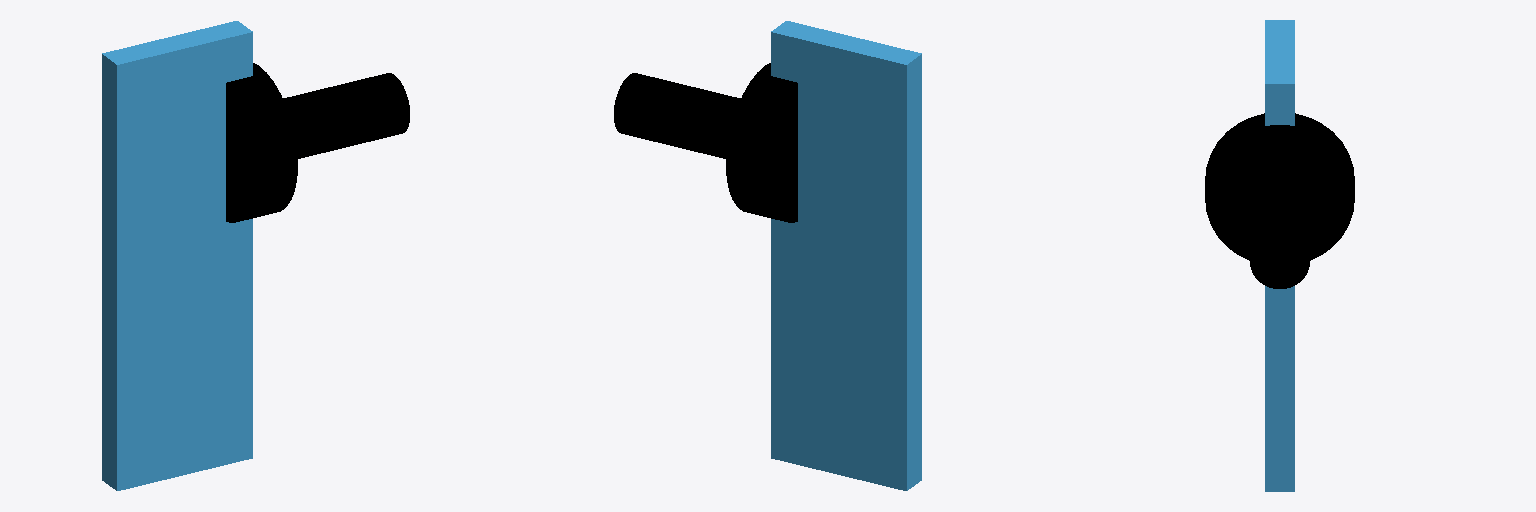
robot.urdf — barco_auv:
<?xml version="1.0" ?>
<!-- =================================================================================== -->
<!-- |    This document was autogenerated by xacro from barcoLeme.xacro                | -->
<!-- |    EDITING THIS FILE BY HAND IS NOT RECOMMENDED                                 | -->
<!-- =================================================================================== -->
<robot name="barco_auv" xmlns:xacro="http://www.ros.org/wiki/xacro">
  <link name="base_link">
    <visual>
      <origin rpy="1.57079632679 0 1.57079632679"/>
      <geometry>
        <mesh filename="file://[local-path]/.uwsim/data/robot/barco/pt90.stl"/>
      </geometry>
      <material name="blue"/>
    </visual>
    <inertial>
        <origin rpy="0 0 0" xyz="0 0 -0.05"/>
      <mass value="10"/>
      <inertia ixx="0.1" ixy="0.0" ixz="0.0" iyy="1.4" iyz="0.0" izz="1.4"/>
    </inertial>
    <buoyancy>
      <compensation>1.2</compensation>
      <origin xyz="-0.0005 0 0.05"/>
      <limit radius="0.1"/>
      <damping rpy="20 50 50" xyz="20 50 50"/>
    </buoyancy>
  </link>
  <link name="rudder">
    <inertial>
      <origin rpy="0 0 0" xyz="-0.1 0 0"/>
      <mass value="0.05"/>
      <inertia ixx="0.1" ixy="0.0" ixz="0.0" iyy="0.01" iyz="0.0" izz="0.05"/>
    </inertial>
    <collision name="collision">
      <geometry>
        <box size="0.1 0.02 0.3"/>
      </geometry>
      <origin rpy="0 0 0" xyz="-0.1 0 0"/>
    </collision>
    <visual name="visual">
      <geometry>
        <box size="0.1 0.02 0.3"/>
      </geometry>
      <origin rpy="0 0 0" xyz="-0.1 0 0"/>
    </visual>
  </link>
  <joint name="rudder_joint" type="revolute">
    <parent link="base_link"/>
    <child link="rudder"/>
    <origin rpy="0 0 0" xyz="-0.53 0 -0.1"/>
    <dynamics damping="1.0"/>
    <axis xyz="0 0 1"/>
    <limit effort="50" lower="-1.0471975512" upper="1.0471975512" velocity="5"/>
  </joint>
  <!-- Plugin list -->
  <gazebo>
    <!-- Gazebo plugin listens to the body-->
    <plugin filename="libLiftDragPlugin.so" name="LiftDrag">
      <!--<plugin name="LiftDrag" filename="libliftdragww.so">-->
      <a0>0</a0>
      <cla>4.752798721</cla>
      <cda>0.6417112299</cda>
      <cma>-1.8</cma>
      <alpha_stall>0.785</alpha_stall>
      <cla_stall>-3.85</cla_stall>
      <cda_stall>-0.9233984055</cda_stall>
      <cma_stall>0</cma_stall>
      <cp>-0.5 0 0</cp>
      <area>0.03</area>
      <air_density>1000</air_density>
      <forward>1 0 0</forward>
      <upward>0 1 0</upward>
      <link_name>rudder</link_name>
    </plugin>
    <plugin filename="libfreefloating_gazebo_control.so" name="freefloating_gazebo_control">
      <switchService>switch</switchService>
      <updateRate>100</updateRate>
      <link>base_link</link>
      <!--    these two thrusters are actually orientable, so the map should not be hard-coded 
                        the thruster name is the name of the corresponding link -->
      <thruster>
        <effort>30</effort>
        <name>fwd</name>
      </thruster>
      <!-- these thrusters are fixed and the map can be hard-coded 
                     they will be given a name (thr2 to thr4)  -->
    </plugin>
  </gazebo>
  <joint name="fwd_link" type="revolute">
    <parent link="base_link"/>
    <child link="fwd"/>
    <origin rpy="0 -1.57079632679 0" xyz="-0.52 0 -0.03"/>
    <dynamics damping="10.0"/>
    <axis xyz="0 1 0"/>
    <limit effort="30" lower="-1.57079632679" upper="1.57079632679" velocity="5.0"/>
  </joint>
  <link name="fwd">
    <buoyancy>
      <compensation>1.0</compensation>
    </buoyancy>
    <visual name="fwd_1">
      <geometry>
        <cylinder length="0.1" radius="0.02"/>
      </geometry>
      <material name="black">
        <color rgba="0 0 0 1"/>
      </material>
    </visual>
    <visual name="fwd_2">
      <origin xyz="0 0 0.065"/>
      <geometry>
        <cylinder length="0.03" radius="0.05"/>
      </geometry>
      <material name="black">
        <color rgba="0 0 0 1"/>
      </material>
    </visual>
    <inertial>
      <mass value="0.01"/>
      <inertia ixx="0.01" ixy="0.0" ixz="0.0" iyy="0.01" iyz="0.0" izz="0.01"/>
    </inertial>
  </link>
  <gazebo reference="fwd">
    <material>Gazebo/Black</material>
  </gazebo>
  <!-- Dummy links to display wrench in Rviz, autogenerated -->
  <!-- <xacro:thruster_dummy_link name="thr2" xyz="0.0 0.0 0.0" rpy="1.57079632679 -0.0 0.0"/>
    <xacro:thruster_dummy_link name="thr3" xyz="-0.45 0.0 0.0" rpy="0.0 -0.0 0.0"/>
    <xacro:thruster_dummy_link name="thr4" xyz="0.45 0.0 0.0" rpy="0.0 -0.0 0.0"/>-->
</robot>

--- Facts derived from the render (not from the file) ---
The picture shows the robot from 3 angles, left to right: view 1: azimuth 30°, elevation 25°; view 2: azimuth 150°, elevation 25°; view 3: azimuth 270°, elevation 25°; orthographic projection.
Robot: barco_auv — 3 links, 2 joints (2 revolute); root link base_link; default pose: every joint at zero.
Visible links, largest first — view 1: rudder, fwd; view 2: rudder, fwd; view 3: fwd, rudder.
Link boxes in pixels (x1,y1,x2,y2): rudder: (102, 21, 252, 490); fwd: (226, 63, 409, 222); rudder: (771, 21, 921, 490); fwd: (614, 63, 797, 222); fwd: (1205, 113, 1354, 288); rudder: (1265, 20, 1294, 491).
Bounding box of the posed robot: 0.21 × 0.1 × 0.3 m (x, y, z).
Geometry: only primitive shapes (box / cylinder / sphere) drawn; not drawn: 1 mesh visual (reference in a form the renderer does not follow).
